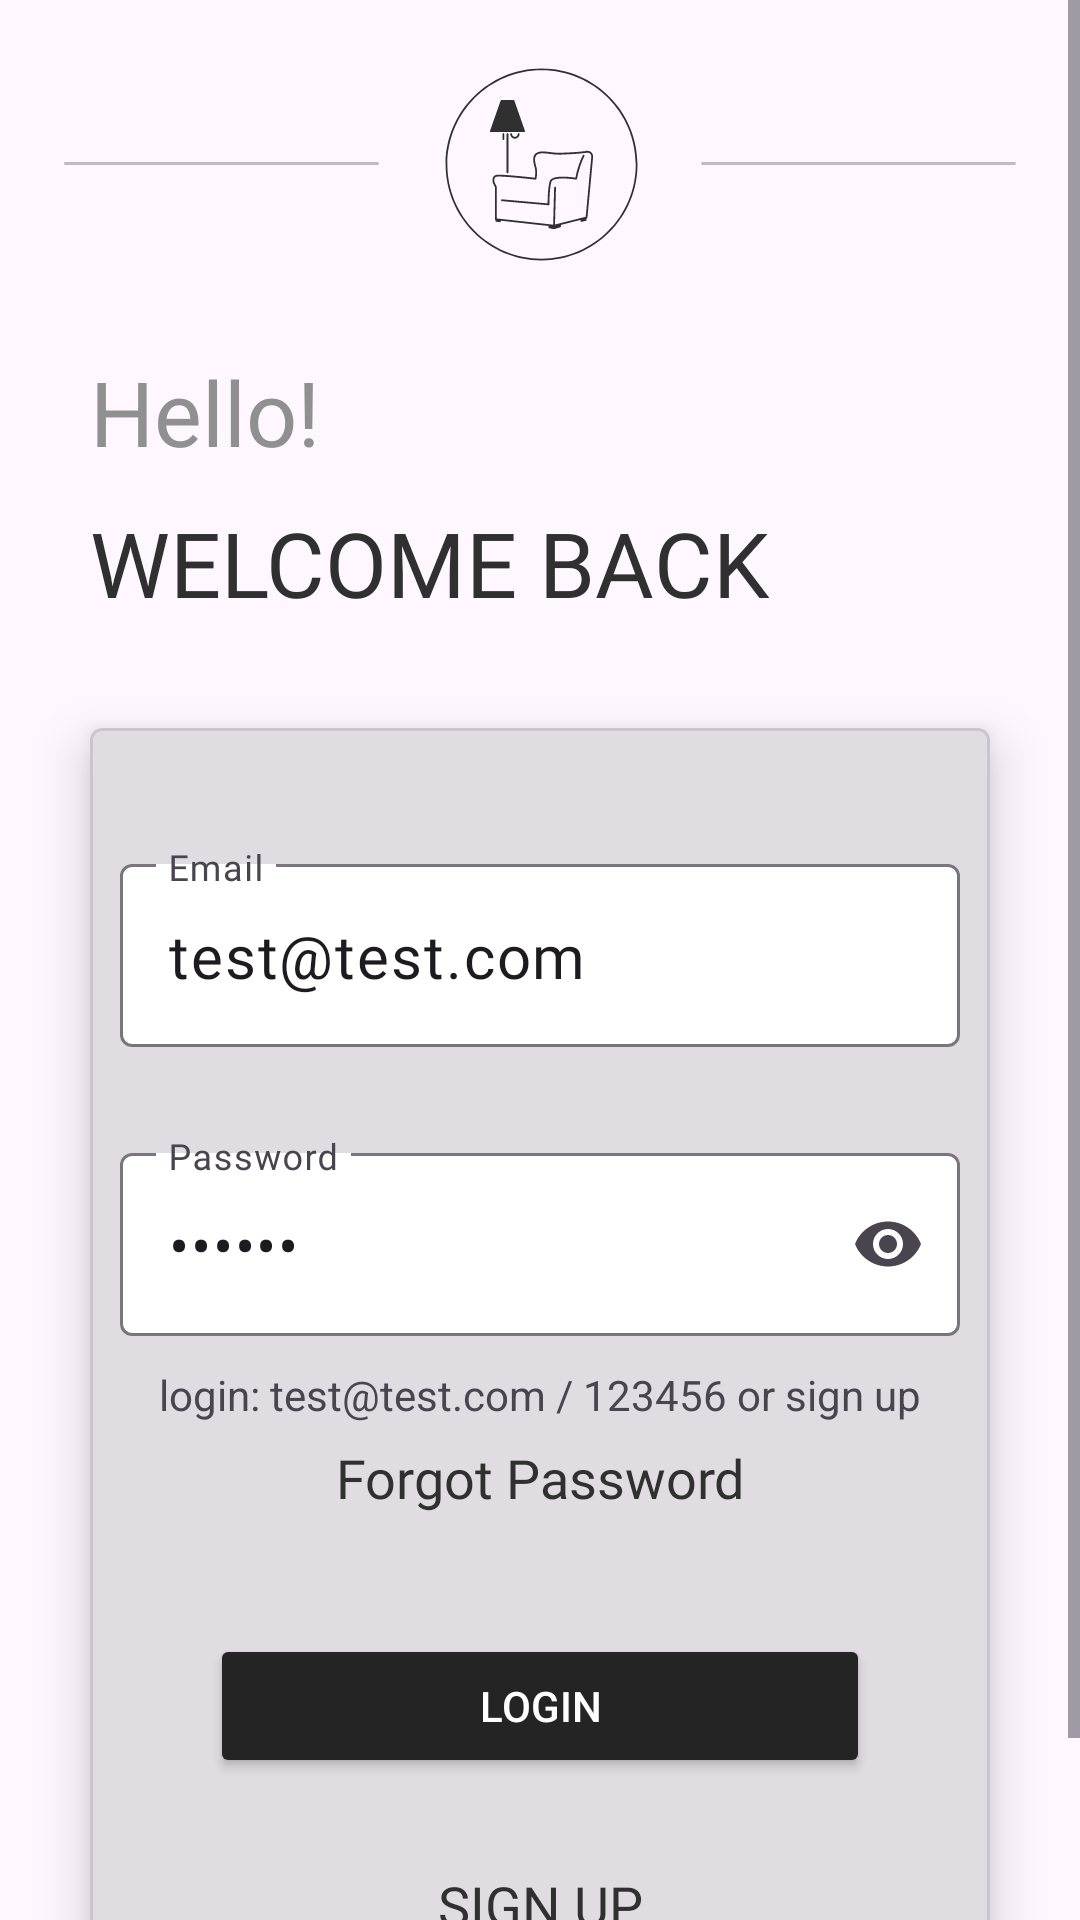

Where to tap for icons on this 1080w x 1920h app screen, as (x,y):
living room: (541,164)
